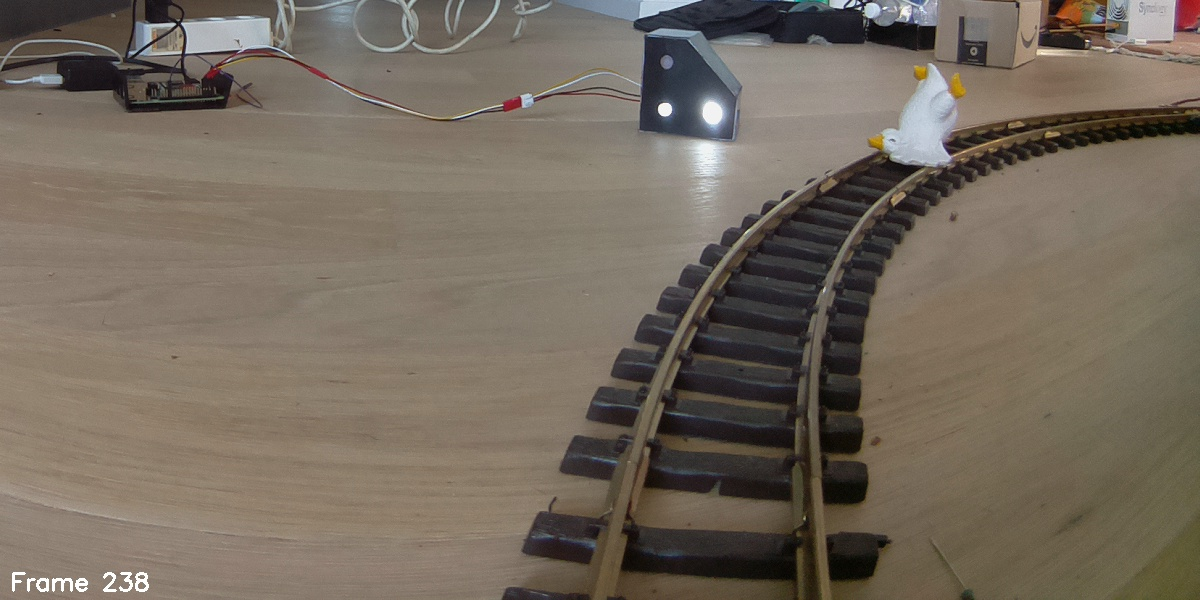Ente: (863, 61, 964, 175)
Halt: (640, 25, 737, 139)
